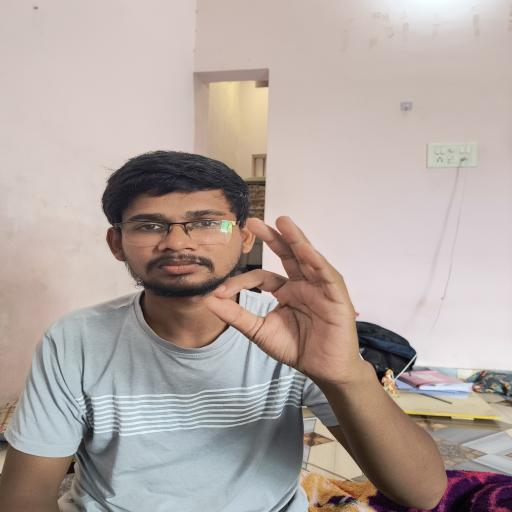Previous: (186, 202, 412, 409)
